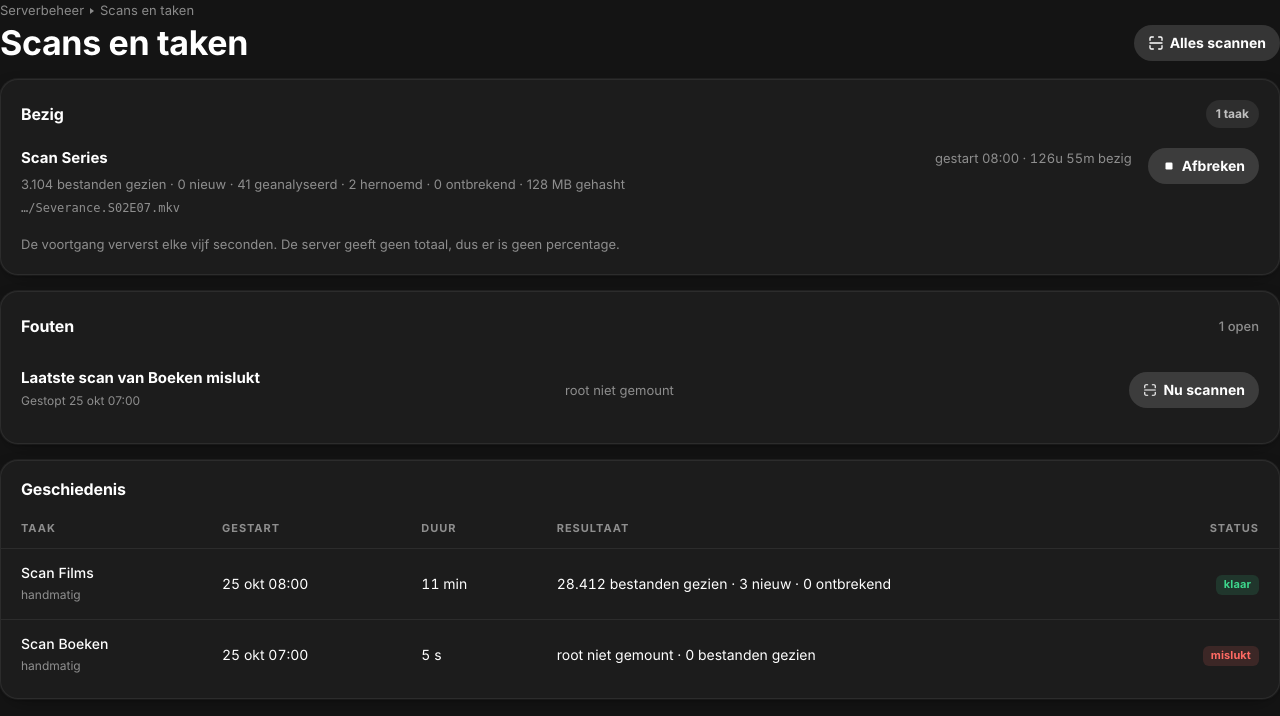
Test: scherm 25, wat er loopt › wijst een job die al klaar was af met een zin en ververst de stand
This screenshot has width=1280, height=716.
Click the button with aria-label "Scan Series afbreken": (1203, 166) x1=1148 y1=148 x2=1259 y2=184
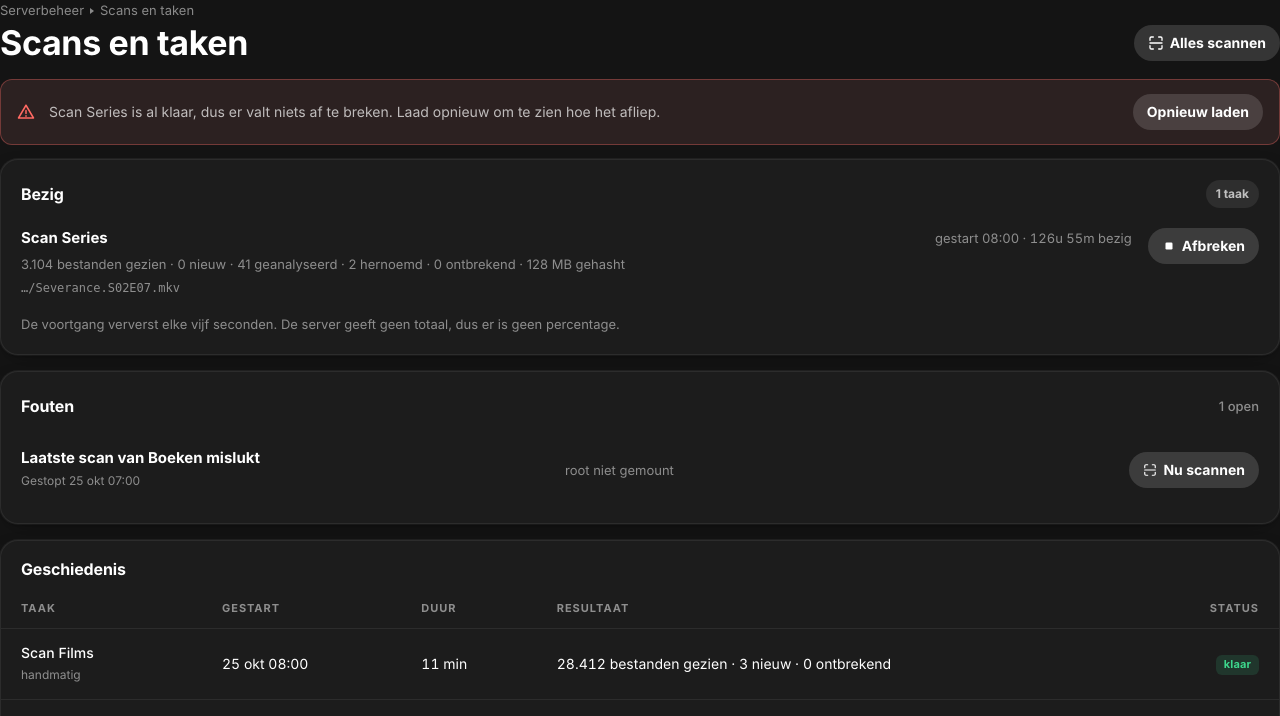
Expected: the message shows "Scan Series is al klaar, dus er valt niets af te breken", x1=49 y1=103 x2=660 y2=120
Expected: the button "Opnieuw laden" is shown, x1=1133 y1=94 x2=1263 y2=130
